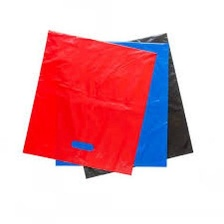plastic_bag: (16, 28, 160, 176), (75, 29, 195, 181), (49, 37, 174, 172)
